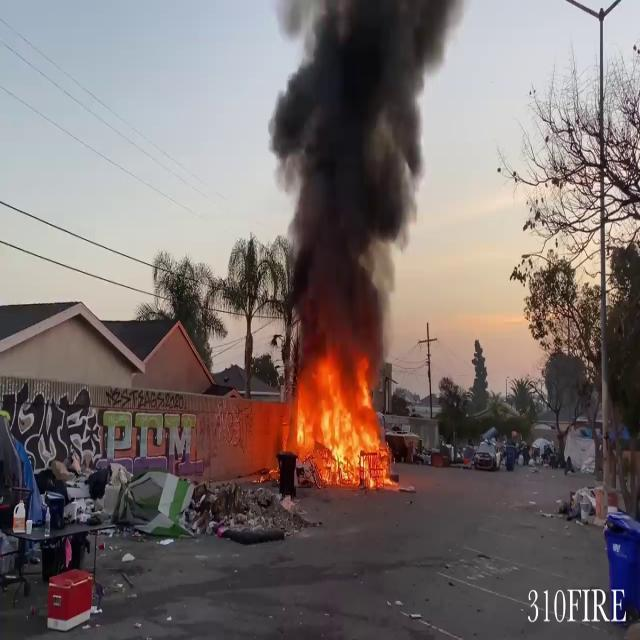Fire: (278, 352, 394, 488)
Smoke: (264, 0, 450, 348)
